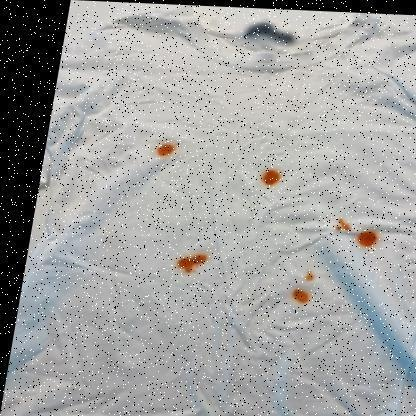kimchi: (174, 246, 207, 278), (354, 225, 376, 254), (258, 166, 282, 192), (290, 284, 311, 306), (332, 218, 350, 237), (155, 141, 172, 157), (304, 270, 316, 280)
